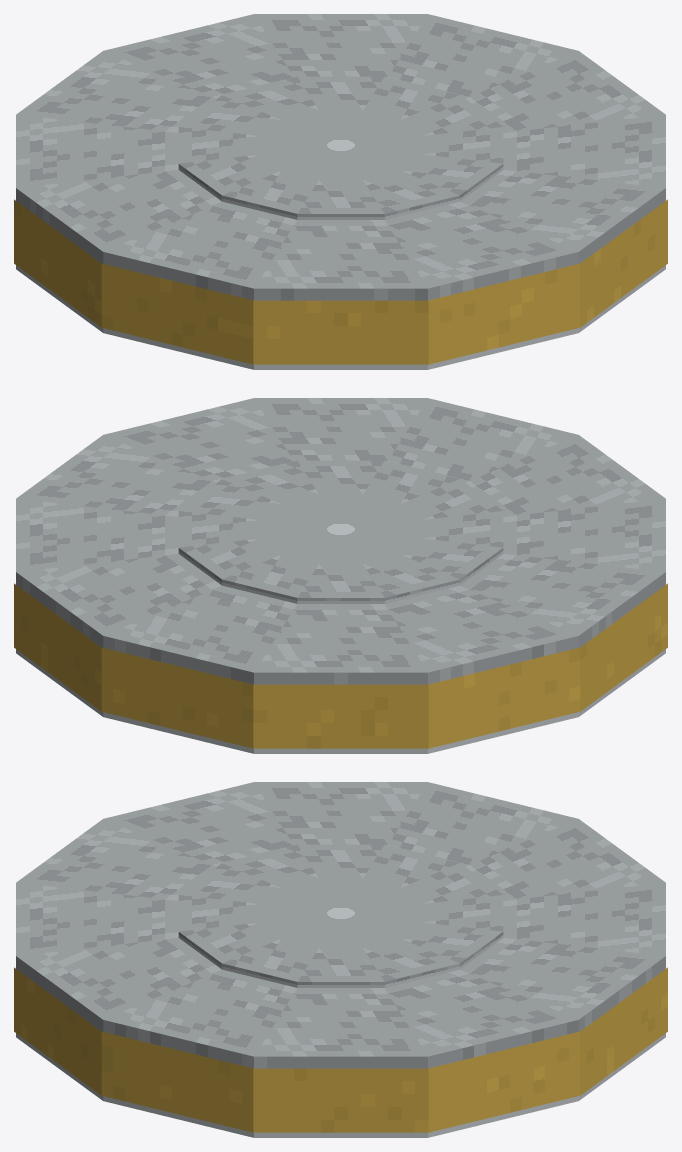
The model's file is light_minus_disposable_cell.glb.
3 views of the same model, one above another, from view 1: azimuth 30°, elevation 25°; view 2: azimuth 150°, elevation 25°; view 3: azimuth 270°, elevation 25° (orthographic).
Visible parts, largest first — view 1: block_cell casing, block_insulating sleeve, block_positive terminal; view 2: block_cell casing, block_insulating sleeve, block_positive terminal; view 3: block_cell casing, block_insulating sleeve, block_positive terminal.
Part boxes in pixels (box(x1,y1,x2,y2)): block_cell casing: box(16, 14, 665, 369); block_insulating sleeve: box(14, 199, 667, 364); block_positive terminal: box(178, 76, 503, 219); block_cell casing: box(16, 398, 665, 753); block_insulating sleeve: box(14, 583, 667, 748); block_positive terminal: box(178, 460, 503, 603); block_cell casing: box(16, 782, 665, 1137); block_insulating sleeve: box(14, 967, 667, 1132); block_positive terminal: box(178, 844, 503, 987).
Bounding box in the file's own units: 0.02 × 0.00295 × 0.02.
1 material, 1 textured.
